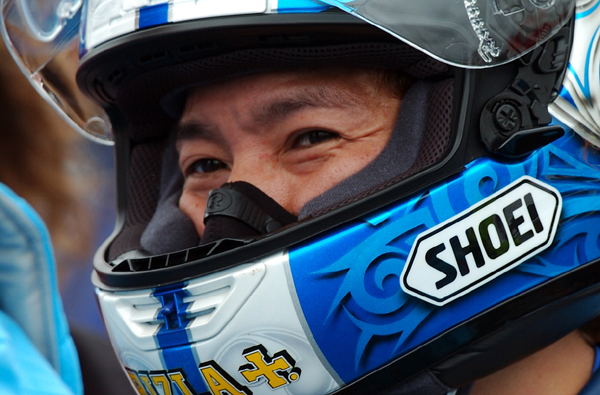helmet: (51, 1, 595, 385)
